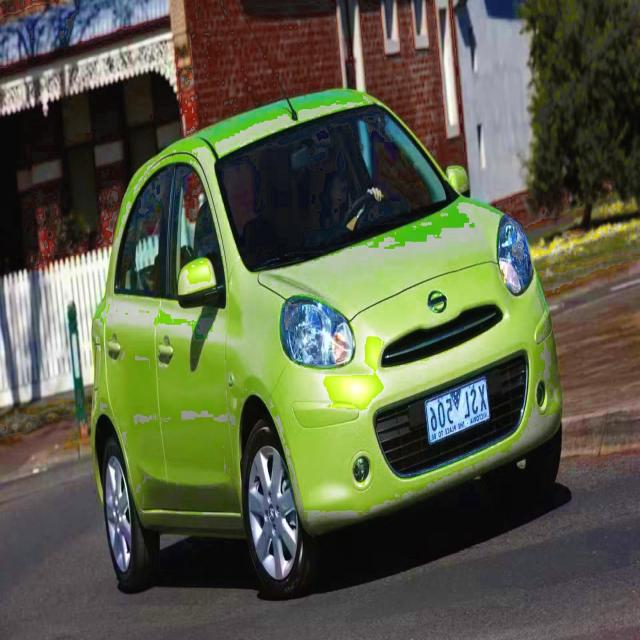green: (88, 76, 570, 582)
